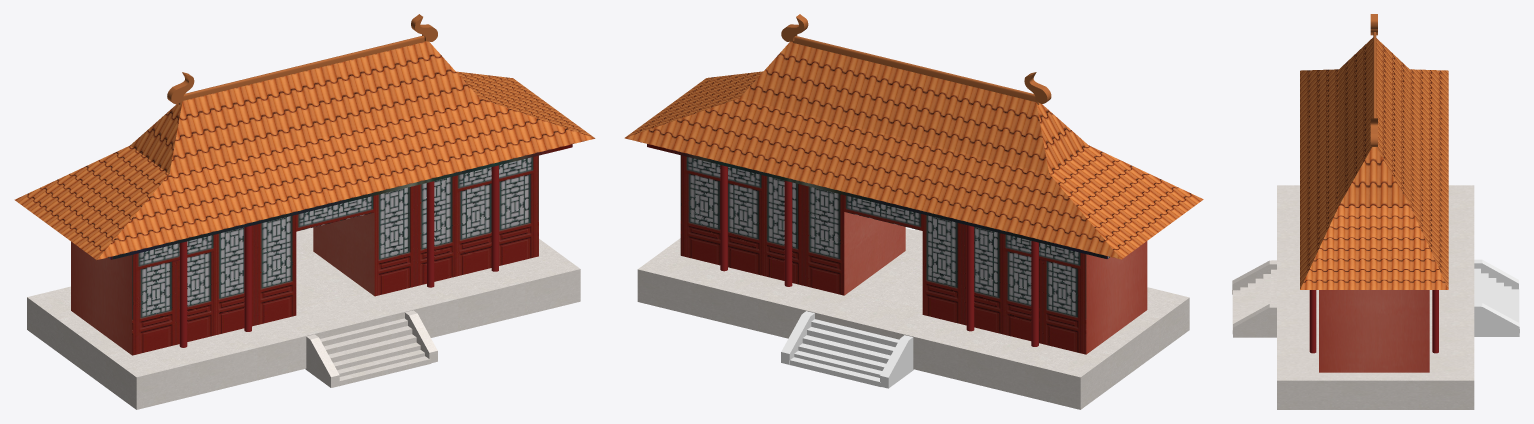
Rendered from cejlk.FBX.
The picture shows the model from 3 angles, left to right: view 1: azimuth 30°, elevation 25°; view 2: azimuth 150°, elevation 25°; view 3: azimuth 270°, elevation 25°; orthographic projection. The views are drawn at different scales.
Parts seen in each view (by area): view 1: 12686; view 2: 12686; view 3: 12686.
Part boxes in pixels (<box>): 12686: <box>14,14,595,409</box>; 12686: <box>624,14,1203,409</box>; 12686: <box>1232,14,1519,409</box>.
Bounding box in the file's own units: 398 × 209 × 221.
8 materials, 5 textured.
